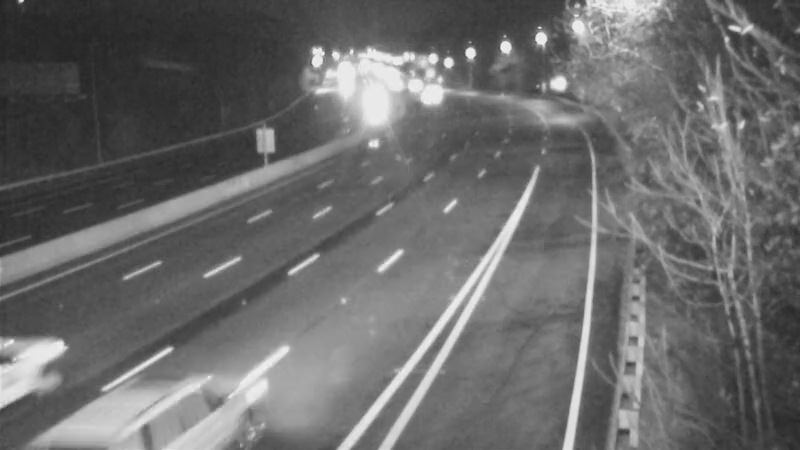vehicle: (123, 356, 233, 450), (387, 58, 437, 108), (406, 73, 456, 123), (347, 77, 397, 127)
